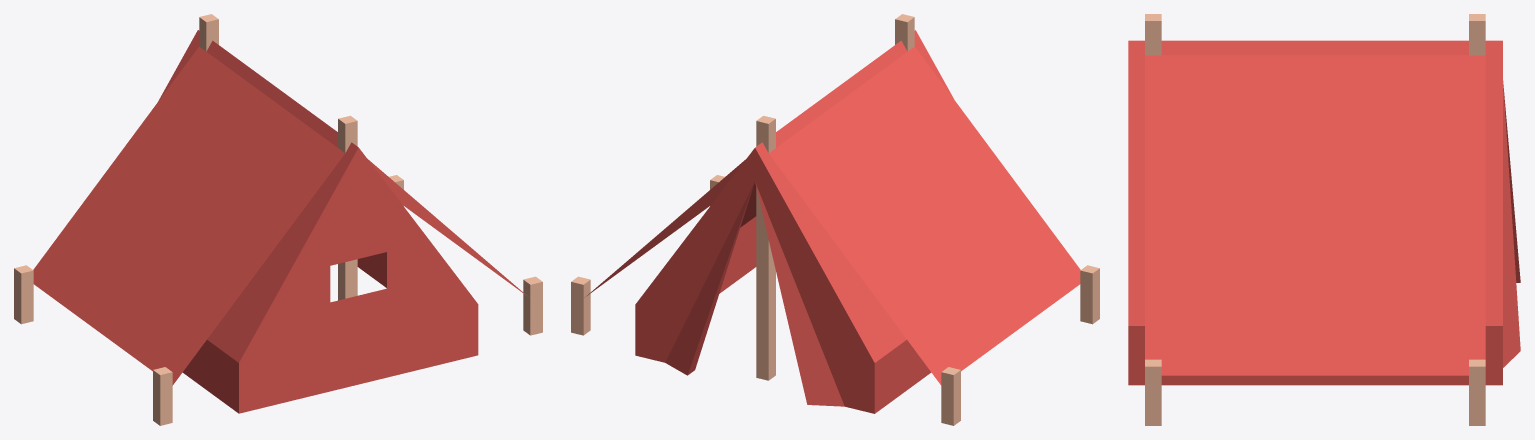
The model's file is tent.glb.
3 renders of one model, left to right at view 1: azimuth 30°, elevation 25°; view 2: azimuth 150°, elevation 25°; view 3: azimuth 270°, elevation 25°, orthographic. The views are drawn at different scales.
Parts seen in each view (by area): view 1: tent_detailedOpen; view 2: tent_detailedOpen; view 3: tent_detailedOpen.
Boxes of the visible parts, left/top/right/bottom form: tent_detailedOpen: left=14, top=14, right=542, bottom=425; tent_detailedOpen: left=571, top=14, right=1099, bottom=425; tent_detailedOpen: left=1128, top=14, right=1520, bottom=425.
Size of the model in its own units: 0.8749 by 0.5611 by 0.6664.
